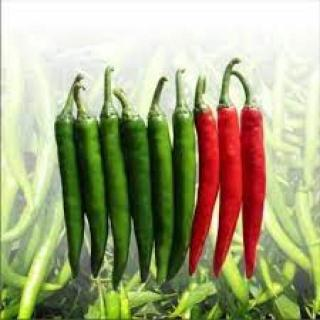Cabai Hijau: (101, 114, 135, 292), (122, 111, 156, 284), (77, 116, 110, 280), (53, 110, 85, 279), (150, 115, 173, 284), (172, 110, 196, 267)
Cabai Merah: (219, 107, 243, 274), (195, 107, 219, 269), (242, 104, 264, 280)
